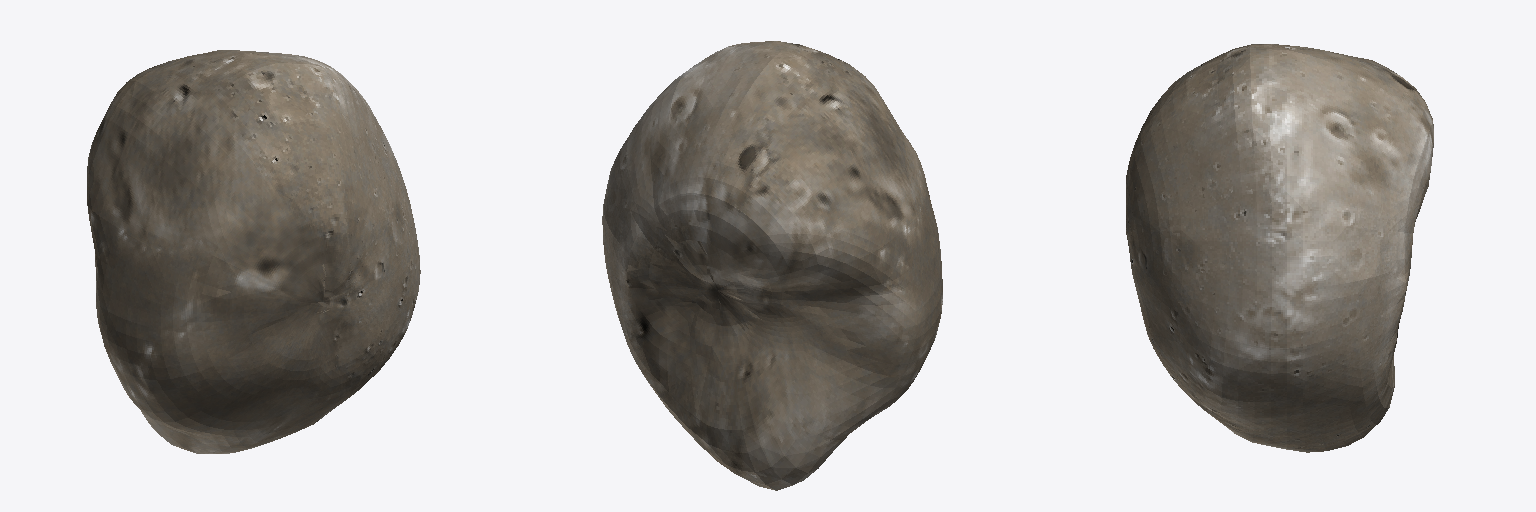
3 views of the same model, side by side, from view 1: azimuth 30°, elevation 25°; view 2: azimuth 150°, elevation 25°; view 3: azimuth 270°, elevation 25° (orthographic).
Size of the model in its own units: 12.65 by 16.01 by 11.06.
Materials: 1 (1 with a texture image).